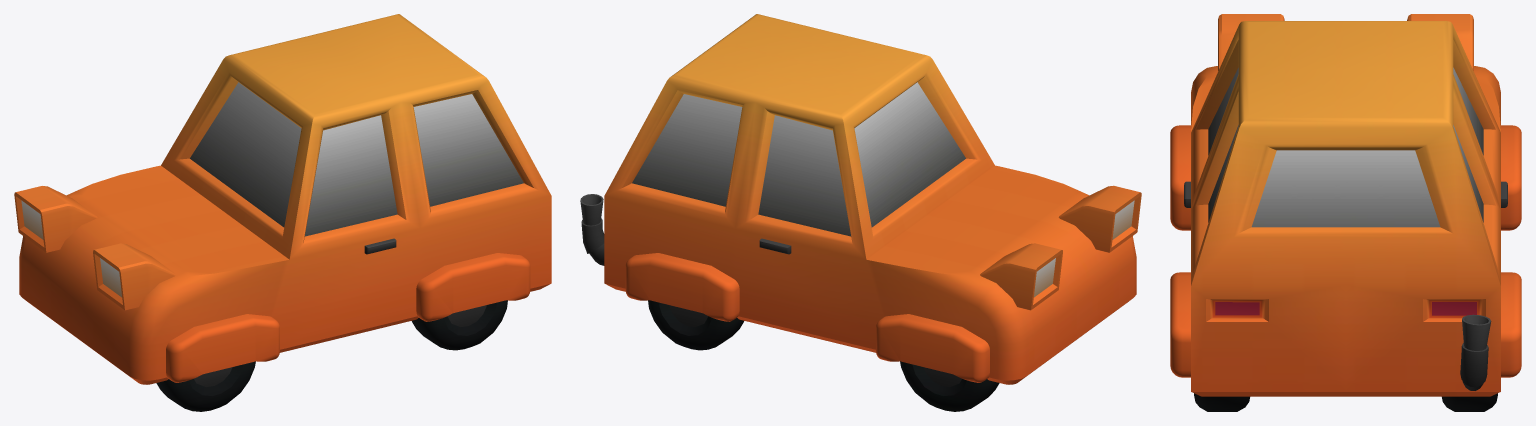
The model's file is car-orange.glb.
The picture shows the model from 3 angles, left to right: view 1: azimuth 30°, elevation 25°; view 2: azimuth 150°, elevation 25°; view 3: azimuth 270°, elevation 25°; orthographic projection. The views are drawn at different scales.
Visible parts, largest first — view 1: BackWheels; view 2: BackWheels; view 3: BackWheels.
Part boxes in pixels (left/top/right/bottom): BackWheels: left=14, top=14, right=551, bottom=411; BackWheels: left=580, top=14, right=1141, bottom=411; BackWheels: left=1170, top=14, right=1521, bottom=411.
Bounding box in the file's own units: 1.29 × 0.7036 × 0.7225.
Materials: 1 (1 with a texture image).
